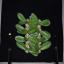leaf: (17, 12, 27, 22), (16, 41, 27, 50), (40, 42, 52, 50), (28, 42, 40, 50), (16, 24, 26, 33), (30, 23, 40, 32), (27, 48, 38, 56), (15, 36, 27, 42), (40, 31, 49, 39), (38, 20, 50, 26), (27, 27, 38, 33), (30, 36, 40, 42), (28, 20, 38, 26), (31, 13, 38, 19), (18, 20, 28, 24), (34, 44, 40, 50), (20, 30, 27, 34), (24, 37, 27, 41)
